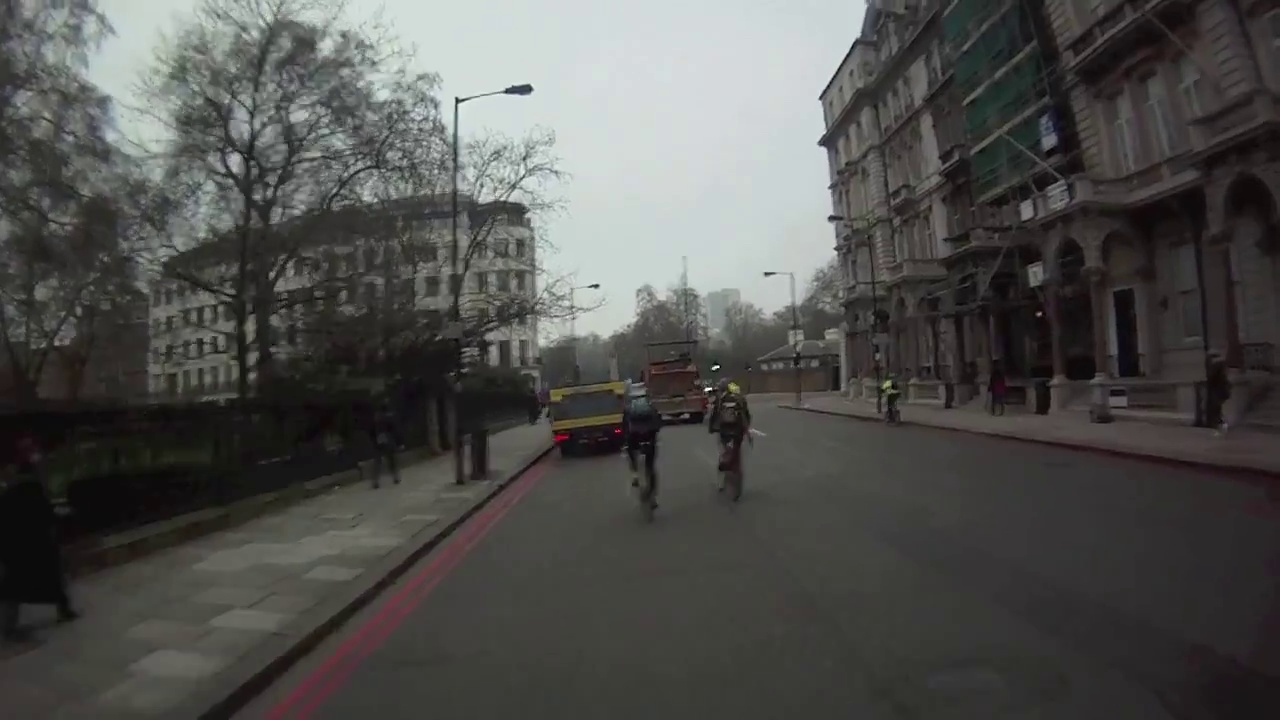cyclist_back: (618, 378, 666, 515), (710, 371, 755, 505)
